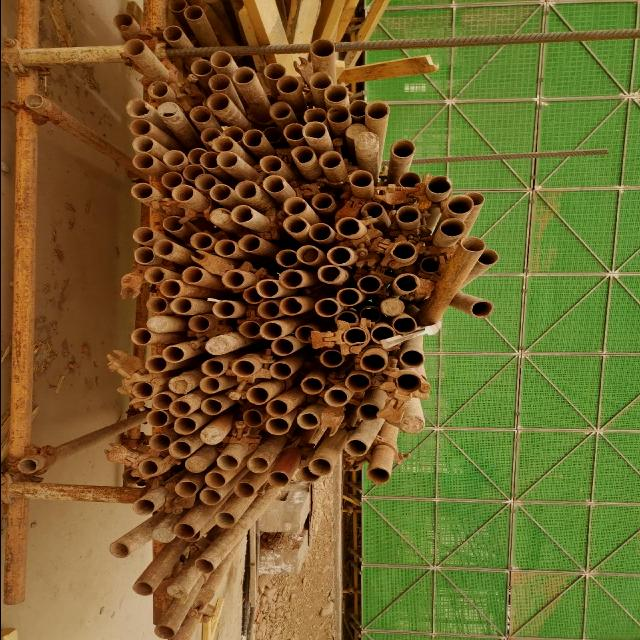pipe: (446, 194, 474, 216), (392, 272, 420, 294), (358, 352, 388, 372), (438, 217, 466, 237), (390, 239, 418, 259), (125, 96, 152, 116), (394, 373, 424, 391), (470, 298, 496, 318), (334, 216, 360, 236), (326, 245, 352, 265), (399, 348, 425, 368), (204, 335, 230, 355), (399, 413, 425, 433), (459, 235, 487, 253), (357, 274, 382, 294), (296, 410, 321, 430), (426, 175, 452, 194), (306, 222, 332, 241), (394, 205, 420, 224), (365, 100, 389, 120), (318, 149, 342, 169), (234, 180, 258, 200), (282, 195, 306, 215), (296, 244, 320, 264), (318, 264, 342, 284), (280, 268, 304, 288), (256, 278, 280, 298), (372, 323, 396, 343), (231, 358, 255, 378), (130, 379, 154, 399), (148, 432, 172, 452), (378, 298, 406, 315), (309, 38, 335, 56), (352, 132, 378, 150), (302, 121, 328, 139), (289, 145, 315, 163), (282, 215, 308, 233), (188, 232, 214, 250), (355, 404, 381, 422), (200, 358, 226, 376), (366, 466, 392, 484), (199, 426, 225, 444), (14, 457, 40, 475), (222, 269, 245, 289), (185, 454, 208, 474), (324, 83, 348, 102), (391, 139, 415, 158), (324, 388, 348, 407), (259, 320, 283, 339), (168, 398, 192, 417), (348, 170, 373, 188), (268, 100, 290, 120), (263, 173, 285, 193), (210, 182, 232, 202), (210, 206, 232, 226), (238, 232, 260, 252), (280, 296, 302, 316), (170, 440, 192, 460), (146, 408, 168, 428), (108, 540, 130, 560), (122, 38, 146, 56), (209, 49, 233, 67), (276, 75, 300, 93), (206, 92, 230, 110), (282, 122, 306, 140), (170, 183, 194, 201), (360, 201, 384, 219), (275, 249, 299, 267), (152, 238, 176, 256), (132, 246, 156, 264), (315, 298, 339, 316), (257, 300, 281, 318), (393, 315, 417, 333), (294, 324, 318, 342), (320, 349, 344, 367), (300, 376, 324, 394), (180, 266, 204, 284), (169, 296, 193, 314), (212, 300, 236, 318), (146, 314, 170, 332), (268, 361, 292, 379), (237, 320, 261, 338), (344, 438, 368, 456), (308, 458, 332, 476), (298, 464, 322, 482), (264, 398, 288, 416), (264, 417, 288, 435), (244, 386, 268, 404), (216, 453, 240, 471), (22, 92, 46, 110), (232, 65, 254, 84), (307, 72, 333, 88), (130, 182, 156, 198), (207, 73, 230, 91), (162, 148, 185, 166), (419, 255, 442, 273), (162, 344, 185, 362), (397, 171, 421, 188), (270, 338, 294, 355), (198, 488, 222, 505), (174, 479, 198, 496), (243, 128, 263, 148), (312, 190, 332, 210), (130, 326, 150, 346), (192, 58, 214, 76), (265, 61, 287, 79), (147, 80, 169, 98), (190, 105, 212, 123), (158, 100, 180, 118), (130, 118, 152, 136), (260, 155, 282, 173), (477, 248, 499, 266), (231, 204, 253, 222), (214, 238, 236, 256), (337, 288, 359, 306), (188, 314, 210, 332), (202, 397, 224, 415), (204, 470, 226, 488), (193, 556, 215, 574), (153, 524, 175, 542), (193, 173, 216, 190), (182, 163, 205, 180), (162, 215, 186, 231), (346, 374, 370, 390), (266, 471, 290, 487), (132, 498, 156, 514), (172, 522, 196, 538), (346, 122, 368, 139), (216, 151, 238, 168), (361, 305, 383, 322), (199, 376, 221, 393), (214, 511, 236, 528), (200, 126, 223, 142), (233, 481, 256, 497), (223, 124, 243, 142), (188, 146, 208, 164), (130, 154, 154, 169), (160, 279, 180, 297), (146, 354, 166, 372), (243, 408, 263, 426), (168, 377, 192, 392), (138, 458, 158, 476), (112, 12, 134, 28), (328, 106, 350, 122), (304, 107, 326, 123), (132, 136, 154, 152), (160, 172, 182, 188), (133, 226, 155, 242), (144, 266, 166, 282), (146, 297, 168, 313), (247, 456, 269, 472), (132, 580, 154, 596), (166, 583, 188, 599), (153, 624, 175, 640), (348, 98, 366, 116), (200, 151, 218, 169), (163, 25, 183, 41), (264, 125, 284, 141), (243, 287, 263, 303), (212, 137, 234, 151), (180, 528, 202, 541), (184, 6, 204, 20), (466, 191, 484, 205), (167, 0, 187, 11)
